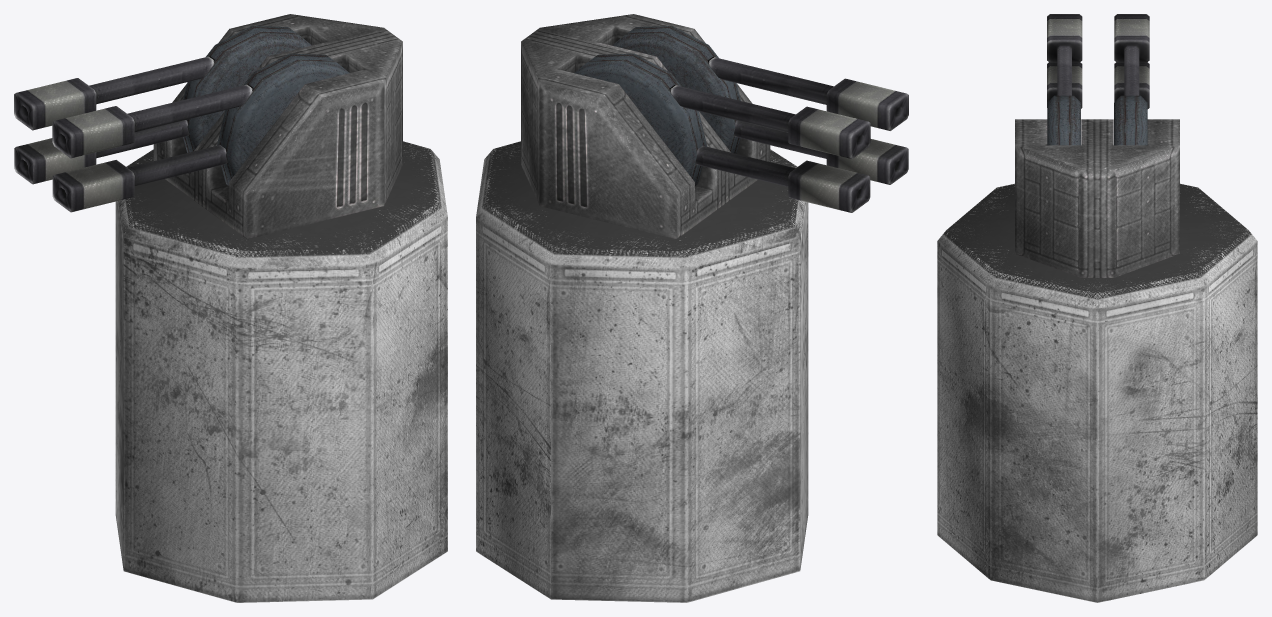
Rendered from Laser_Gun_Tower-(Wavefront OBJ).obj.
3 renders of one model, left to right at view 1: azimuth 30°, elevation 25°; view 2: azimuth 150°, elevation 25°; view 3: azimuth 270°, elevation 25°, orthographic. The views are drawn at different scales.
Visible parts, largest first — view 1: Laser_Gun_Tower_tower.001, Laser_Gun_Tower.001_tower.002, Circle.002_tower.003, Laser_Gun_Tower.004_tower.004, Laser_Gun_Tower.003_tower.004, Laser_Gun_Tower.005_tower, Laser_Gun_Tower.002_tower; view 2: Laser_Gun_Tower_tower.001, Laser_Gun_Tower.001_tower.002, Circle.002_tower.003, Laser_Gun_Tower.003_tower.004, Laser_Gun_Tower.004_tower.004, Laser_Gun_Tower.002_tower, Laser_Gun_Tower.005_tower; view 3: Laser_Gun_Tower_tower.001, Laser_Gun_Tower.001_tower.002, Circle.002_tower.003, Laser_Gun_Tower.003_tower.004, Laser_Gun_Tower.004_tower.004, Laser_Gun_Tower.005_tower, Laser_Gun_Tower.002_tower.
Part boxes in pixels (<box>): Laser_Gun_Tower_tower.001: <box>115,141,447,602</box>; Laser_Gun_Tower.001_tower.002: <box>153,14,402,239</box>; Circle.002_tower.003: <box>183,25,349,185</box>; Laser_Gun_Tower.004_tower.004: <box>52,84,253,158</box>; Laser_Gun_Tower.003_tower.004: <box>14,56,215,130</box>; Laser_Gun_Tower.005_tower: <box>52,145,227,212</box>; Laser_Gun_Tower.002_tower: <box>14,120,189,184</box>; Laser_Gun_Tower_tower.001: <box>476,141,808,602</box>; Laser_Gun_Tower.001_tower.002: <box>521,14,770,239</box>; Circle.002_tower.003: <box>574,25,740,185</box>; Laser_Gun_Tower.003_tower.004: <box>669,85,870,158</box>; Laser_Gun_Tower.004_tower.004: <box>708,57,908,130</box>; Laser_Gun_Tower.002_tower: <box>695,146,870,212</box>; Laser_Gun_Tower.005_tower: <box>733,120,908,184</box>; Laser_Gun_Tower_tower.001: <box>937,183,1257,602</box>; Laser_Gun_Tower.001_tower.002: <box>1015,119,1179,277</box>; Circle.002_tower.003: <box>1047,95,1147,145</box>; Laser_Gun_Tower.003_tower.004: <box>1114,14,1149,95</box>; Laser_Gun_Tower.004_tower.004: <box>1047,14,1082,95</box>; Laser_Gun_Tower.005_tower: <box>1047,62,1082,108</box>; Laser_Gun_Tower.002_tower: <box>1114,62,1149,108</box>.
Size of what is drawn, in the model's own units: 53.73 by 63.58 by 42.89.
